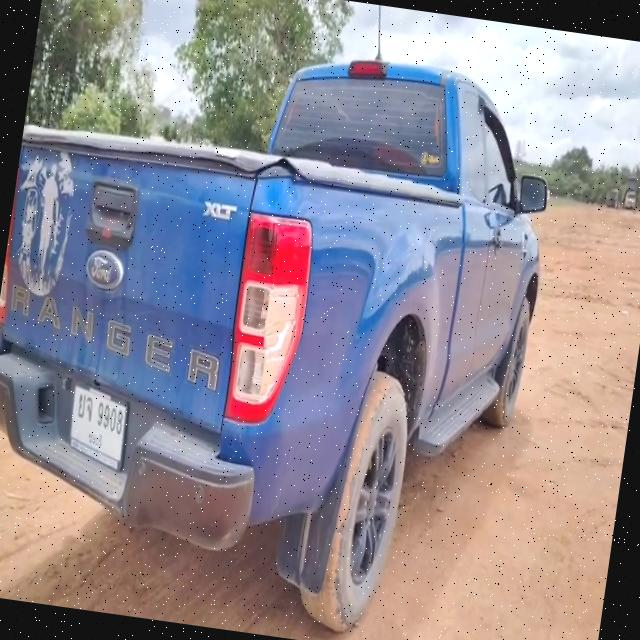Digit: (95, 399, 126, 435)
Licenseplate: (69, 379, 130, 474)
Provincename: (86, 428, 106, 453)
Thaichar: (74, 391, 96, 422)
